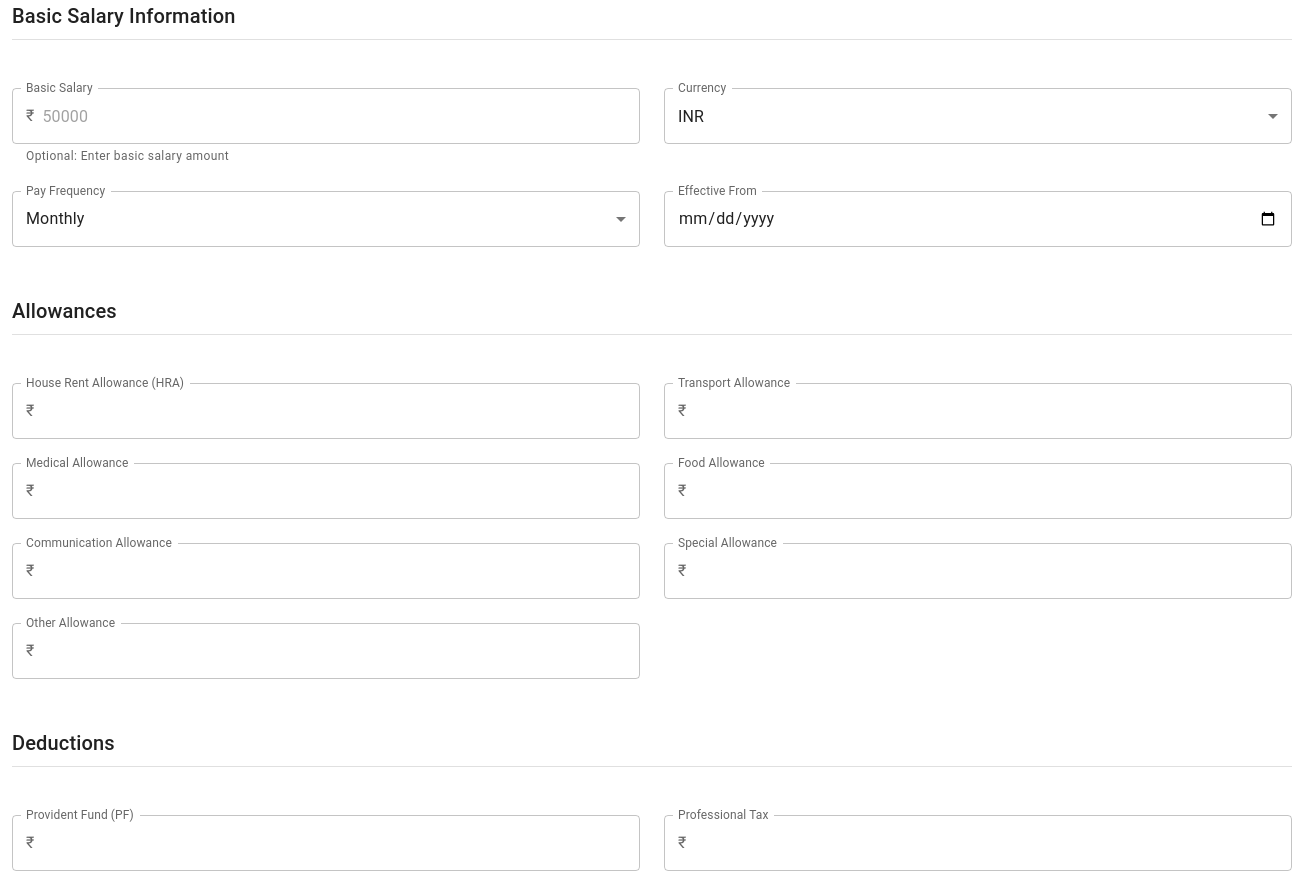
Test: SalaryStructureTab › Pay Frequency Select › should have Weekly, Bi-weekly, Monthly, Annually options
Press the mouse on the dropdown with id "salary" at (55, 219), box [26,209,84,228]
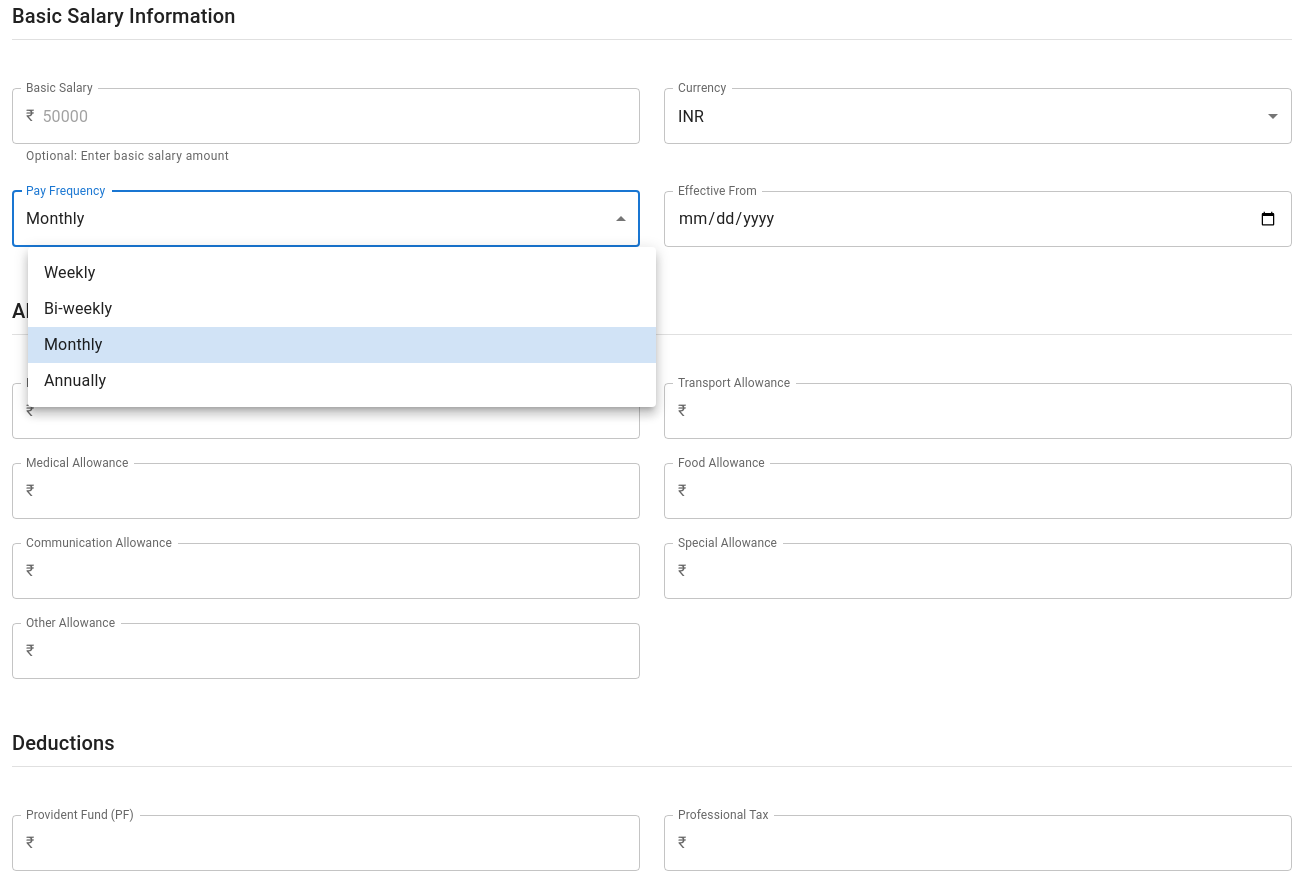
Expected: the option "Weekly" is shown, [44,263,95,282]
Expected: the option "Bi-weekly" is shown, [44,299,112,318]
Expected: the option "Annually" is shown, [44,371,106,390]
